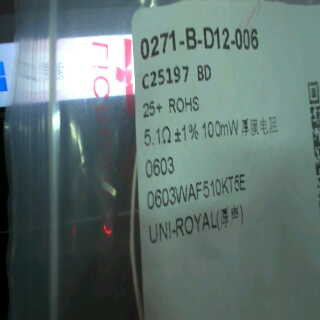5.1R: (140, 124, 174, 151)
